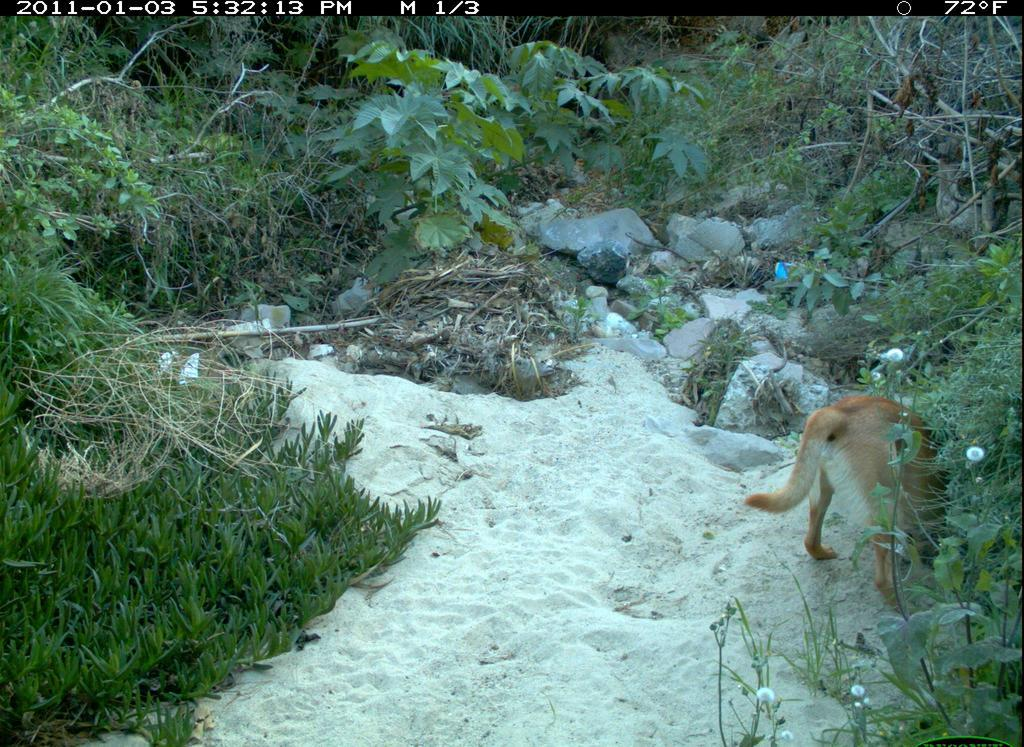dog: (740, 387, 968, 620)
